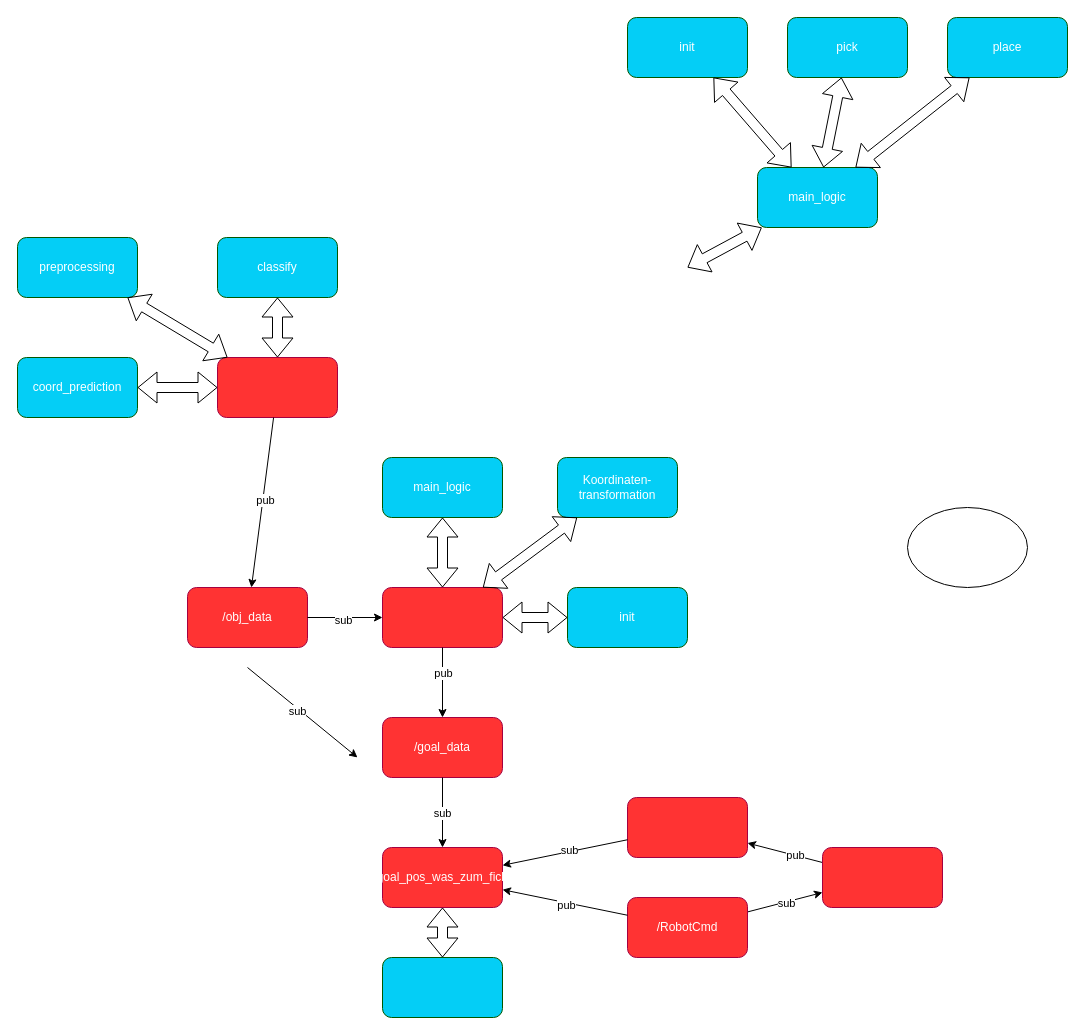
This 1085x1035 diagram has some shape labels left out. Here are the shapes that lost their labels. From the top down, the centre of each, then its label:
(277,387): Kamera Node
(967,547): Test
(442,617): main_node
(687,827): /RobotPos
(882,877): /SerialMapping
(442,987): move_logic
